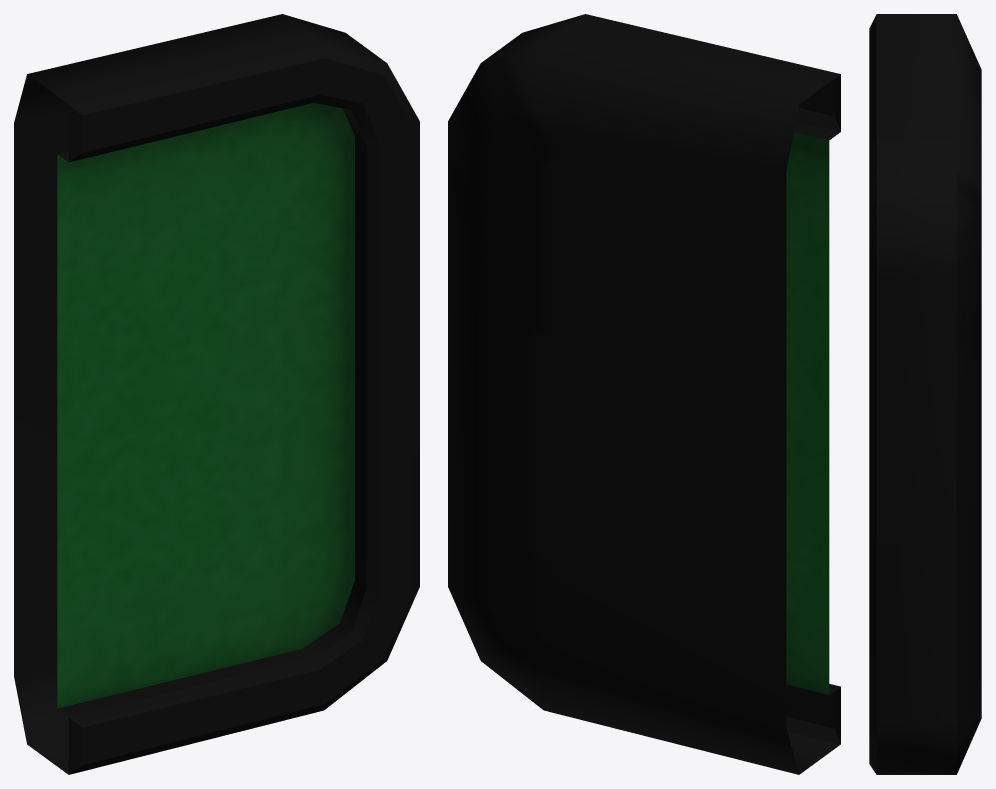
Rendered from MenuSidepanel.obj.
3 views of the same model, side by side, from view 1: azimuth 30°, elevation 25°; view 2: azimuth 150°, elevation 25°; view 3: azimuth 270°, elevation 25° (orthographic). The views are drawn at different scales.
Parts seen in each view (by area): view 1: polySurface2 pCube2; view 2: polySurface2 pCube2; view 3: polySurface2 pCube2.
Part boxes in pixels (left/top/right/bottom): polySurface2 pCube2: left=14, top=14, right=419, bottom=774; polySurface2 pCube2: left=448, top=14, right=840, bottom=774; polySurface2 pCube2: left=869, top=14, right=981, bottom=774.
Bounding box in the file's own units: 0.1152 × 0.2101 × 0.0332.
1 material, 1 textured.
